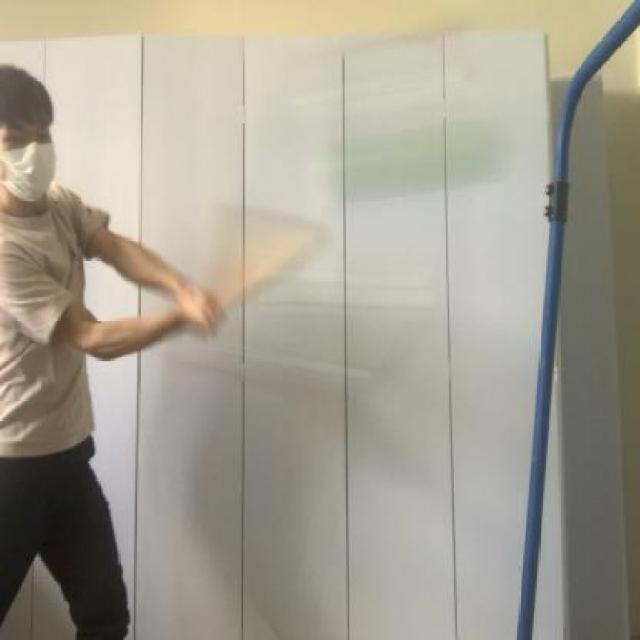baseball: (326, 112, 502, 217)
